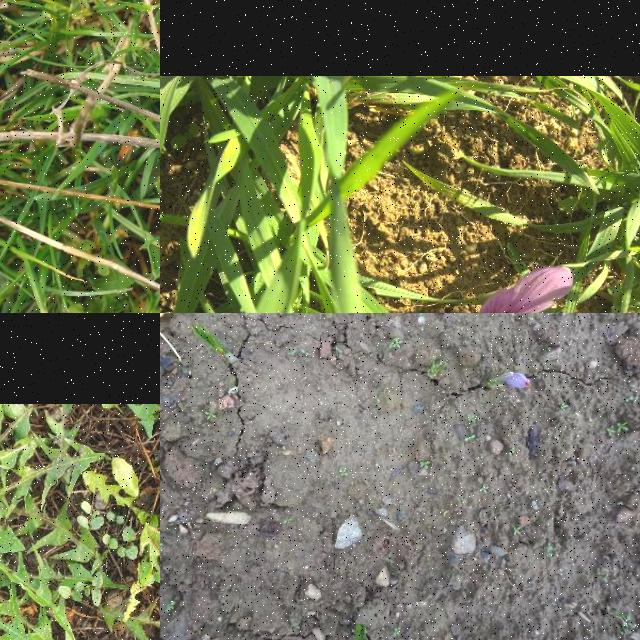flower: (455, 266, 585, 313), (504, 372, 532, 390)
